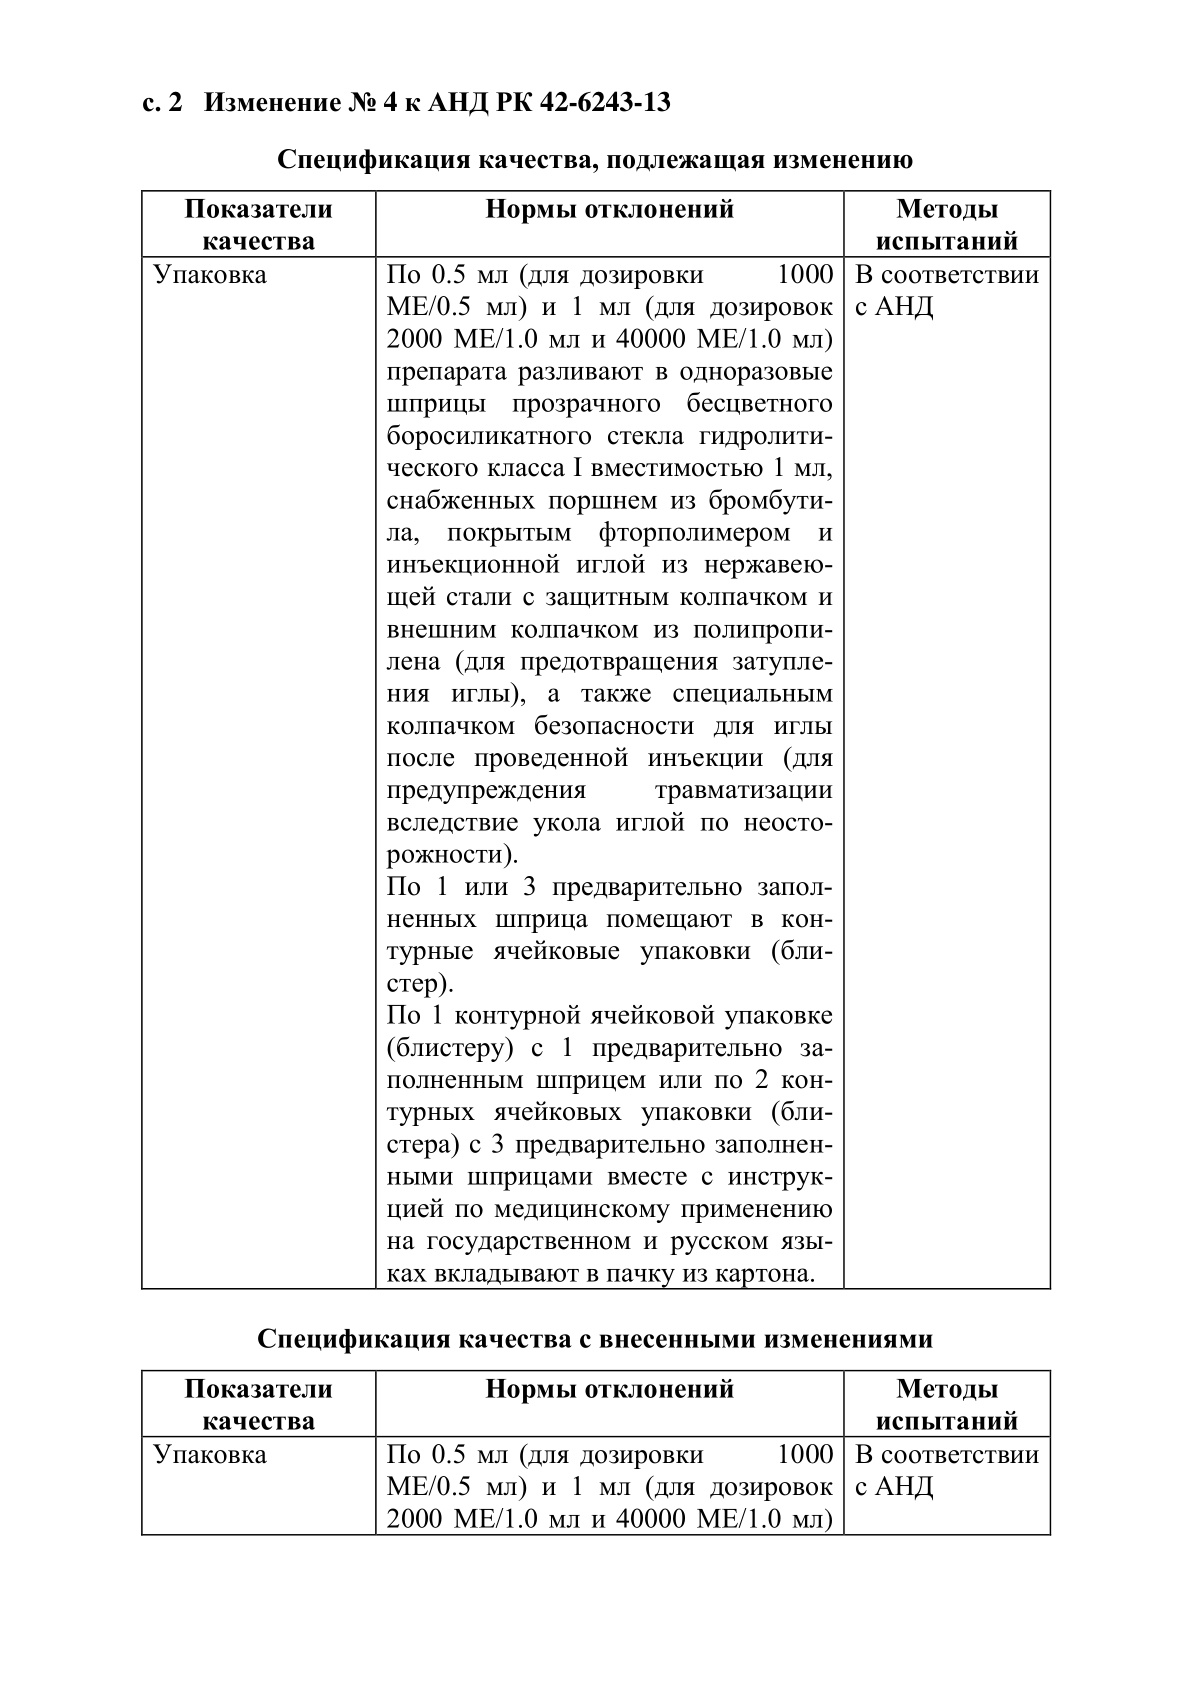full_lined: (140, 189, 1052, 1290), (140, 1370, 1052, 1536)
